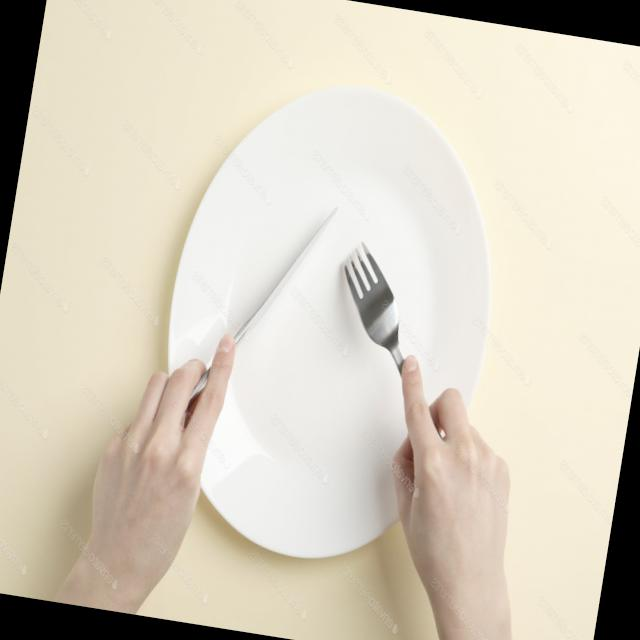fork: (303, 236, 469, 530)
